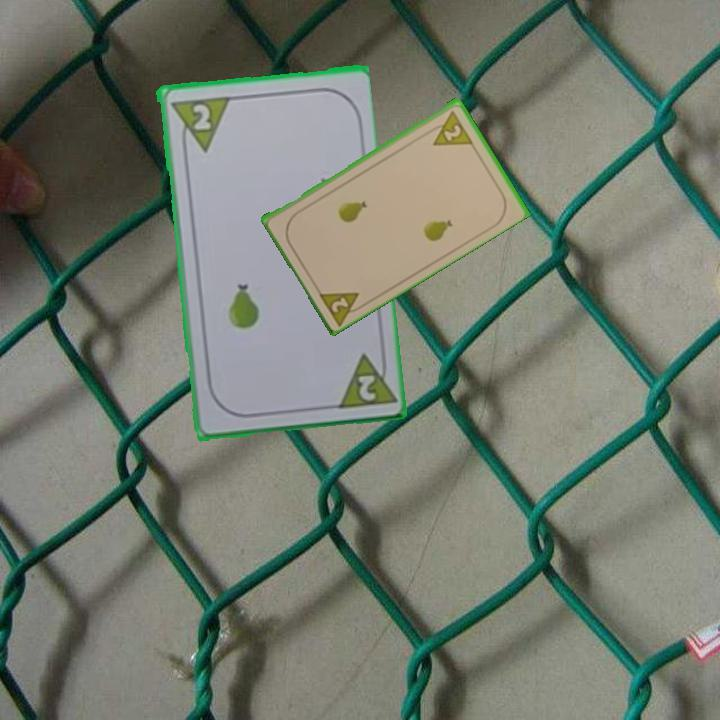2p: (331, 346, 396, 412), (314, 287, 369, 327), (424, 107, 475, 149), (189, 100, 214, 133)
